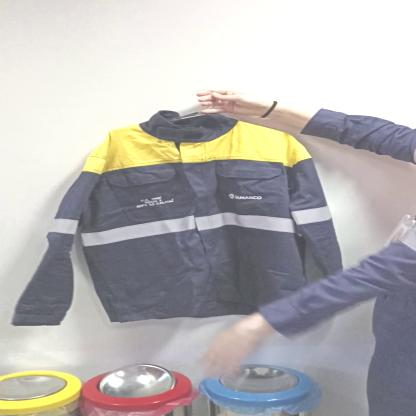C_eletrica: (17, 116, 345, 328)
